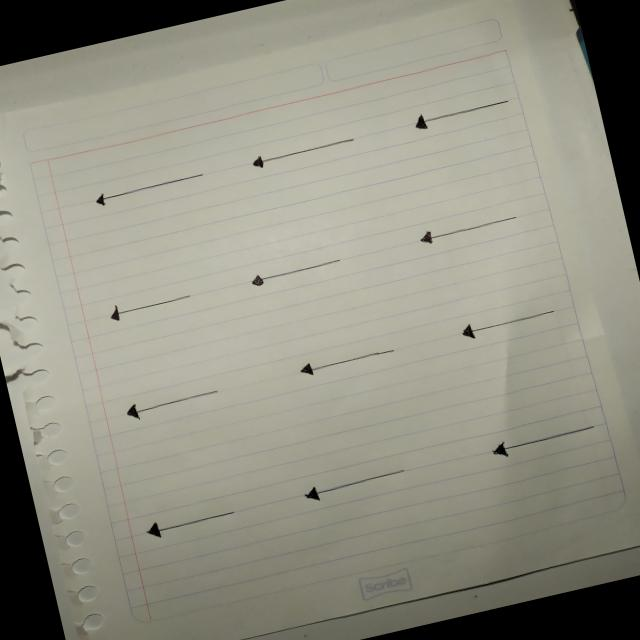arrow_line_left: (236, 126, 376, 182), (284, 456, 422, 510), (77, 164, 216, 216), (286, 334, 414, 387), (478, 414, 603, 468), (116, 376, 246, 426), (400, 89, 522, 142), (404, 205, 530, 256), (238, 246, 358, 296), (133, 498, 252, 548), (450, 299, 566, 350), (96, 282, 210, 332)
